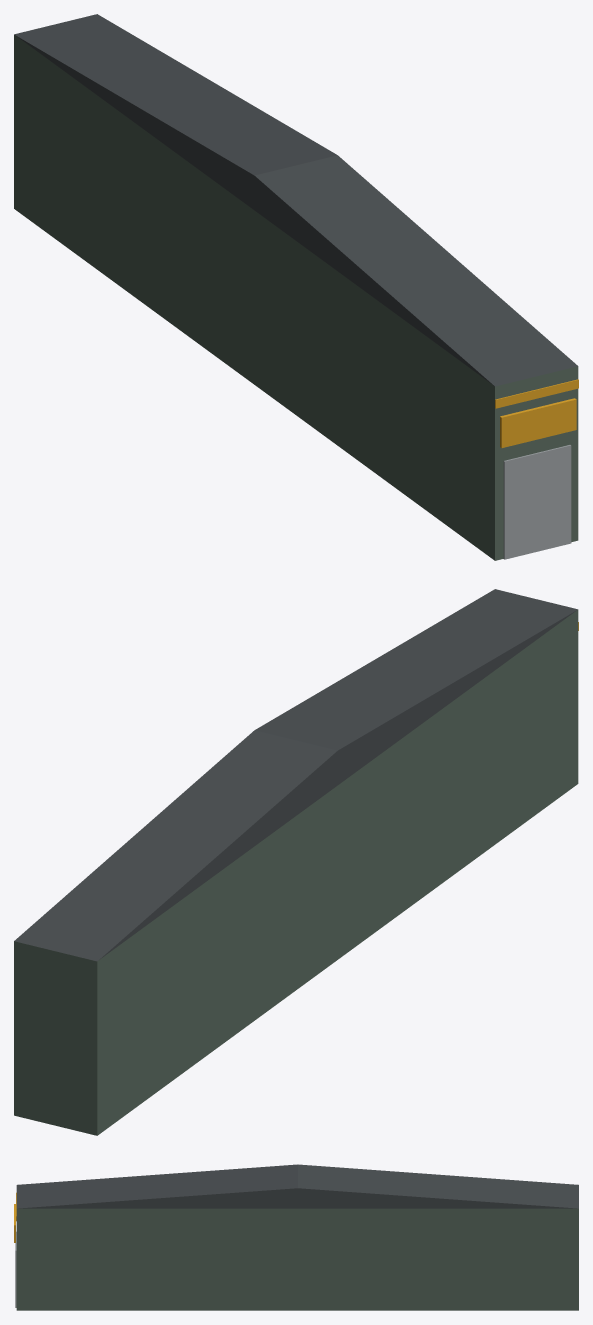
The model's file is warehouse-door.glb.
3 renders of one model, top to bottom at view 1: azimuth 30°, elevation 25°; view 2: azimuth 150°, elevation 25°; view 3: azimuth 270°, elevation 25°, orthographic. The views are drawn at different scales.
Parts seen in each view (by area): view 1: warehouse-door; view 2: warehouse-door; view 3: warehouse-door.
Part boxes in pixels (<box>): warehouse-door: <box>14,14,578,560</box>; warehouse-door: <box>14,589,578,1135</box>; warehouse-door: <box>14,1164,578,1310</box>.
Bounding box in the file's own units: 4 × 9.6 × 40.2.
